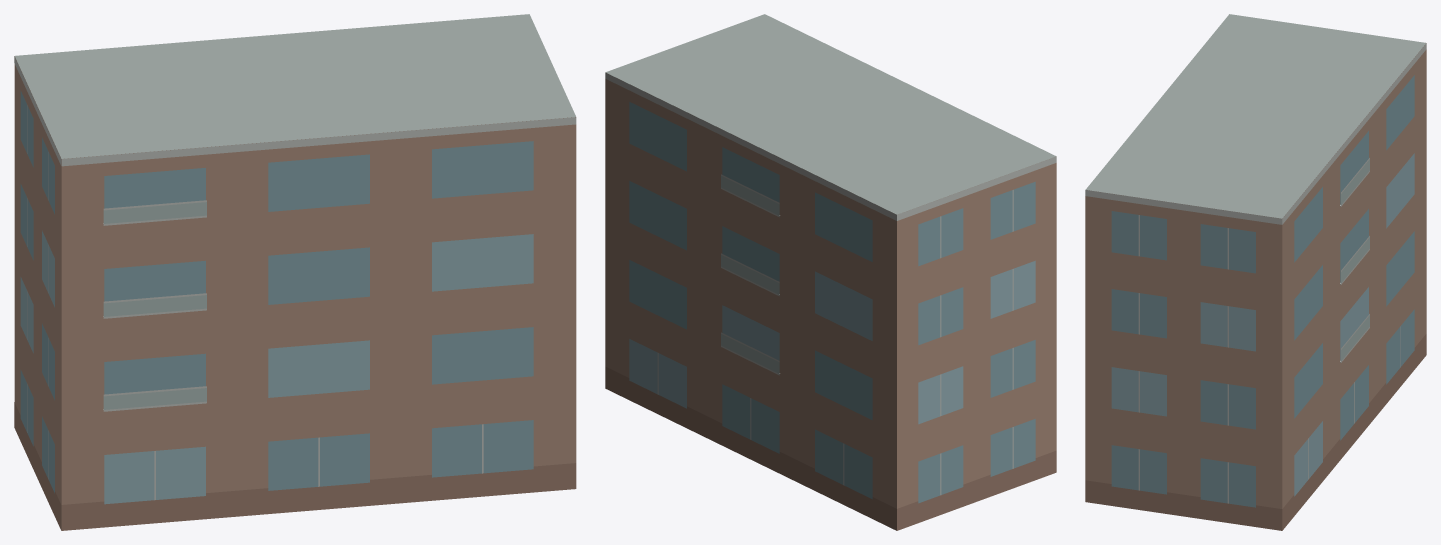
Rendered from residential-a06df0c8-981b-4d3b-bfe9-b3bf19670d28.glb.
The picture shows the model from 3 angles, left to right: view 1: azimuth 30°, elevation 25°; view 2: azimuth 150°, elevation 25°; view 3: azimuth 270°, elevation 25°; orthographic projection. The views are drawn at different scales.
Visible parts, largest first — view 1: residential-a06df0c8-981b-4d3b-bfe9-b3bf19670d28.tmp; view 2: residential-a06df0c8-981b-4d3b-bfe9-b3bf19670d28.tmp; view 3: residential-a06df0c8-981b-4d3b-bfe9-b3bf19670d28.tmp.
Boxes of the visible parts, x1,y1,x2,y2 form: residential-a06df0c8-981b-4d3b-bfe9-b3bf19670d28.tmp: [14, 14, 576, 530]; residential-a06df0c8-981b-4d3b-bfe9-b3bf19670d28.tmp: [605, 14, 1056, 530]; residential-a06df0c8-981b-4d3b-bfe9-b3bf19670d28.tmp: [1085, 14, 1426, 530].
Size of the model in its own units: 17.16 by 12.2 by 12.09.
